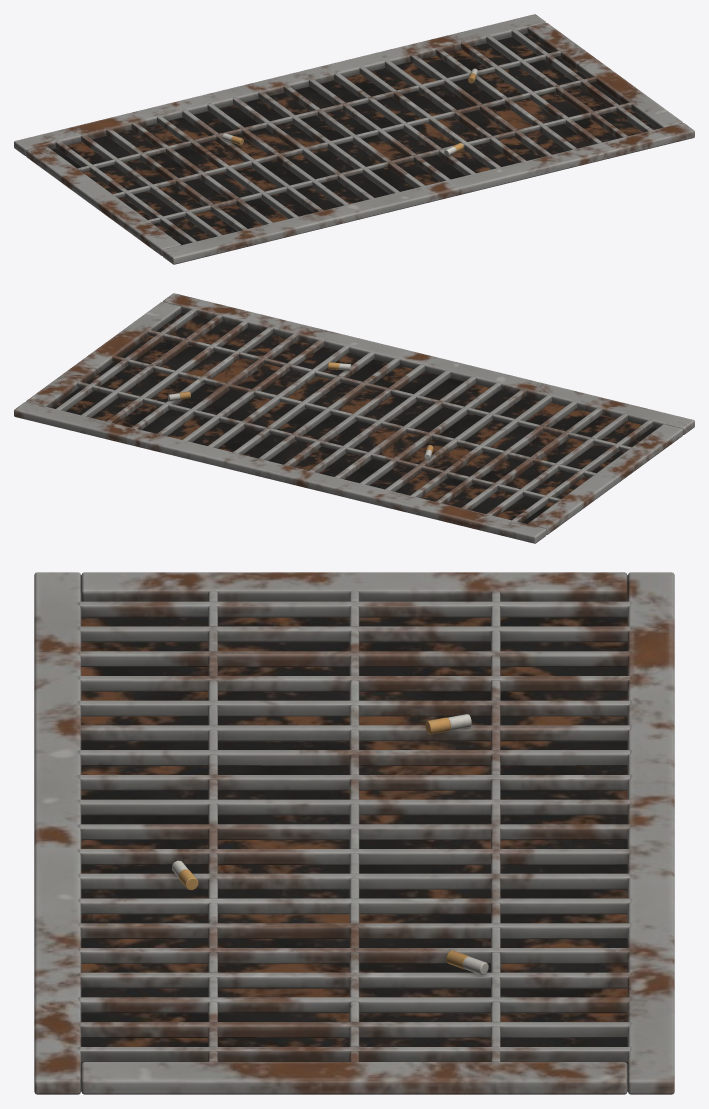
The model's file is StreetDrain.fbx.
3 renders of one model, top to bottom at view 1: azimuth 30°, elevation 25°; view 2: azimuth 150°, elevation 25°; view 3: azimuth 270°, elevation 25°, orthographic. The views are drawn at different scales.
Parts seen in each view (by area): view 1: StreetDrain_Body; view 2: StreetDrain_Body; view 3: StreetDrain_Body.
Part boxes in pixels (x1=…): StreetDrain_Body: x1=14, y1=14, x2=694, y2=264; StreetDrain_Body: x1=14, y1=293, x2=694, y2=543; StreetDrain_Body: x1=34, y1=572, x2=674, y2=1094.
Size of the model in its own units: 0.64 by 0.0164 by 0.34.
